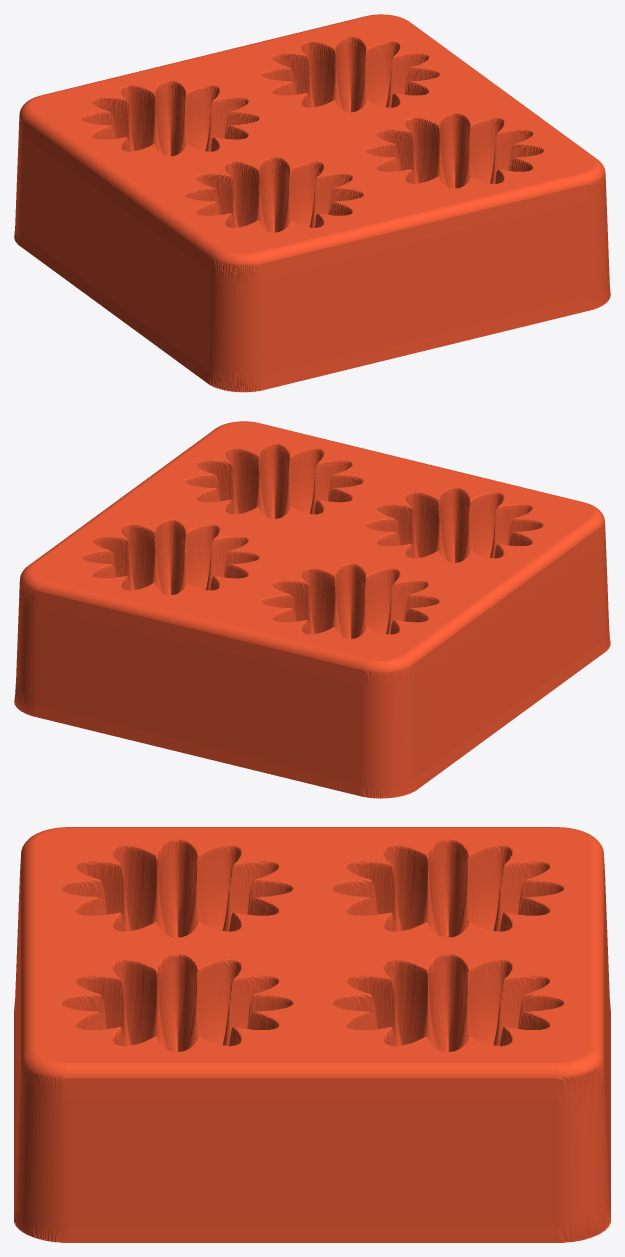
File: mold.glb
The picture shows the model from 3 angles, top to bottom: view 1: azimuth 30°, elevation 25°; view 2: azimuth 150°, elevation 25°; view 3: azimuth 270°, elevation 25°; orthographic projection. The views are drawn at different scales.
Parts seen in each view (by area): view 1: geometry_0; view 2: geometry_0; view 3: geometry_0.
Boxes of the visible parts, x1,y1,x2,y2 form: geometry_0: [14, 14, 610, 392]; geometry_0: [14, 421, 610, 798]; geometry_0: [14, 827, 610, 1242].
Size of the model in its own units: 0.0992 by 0.0314 by 0.0992.
